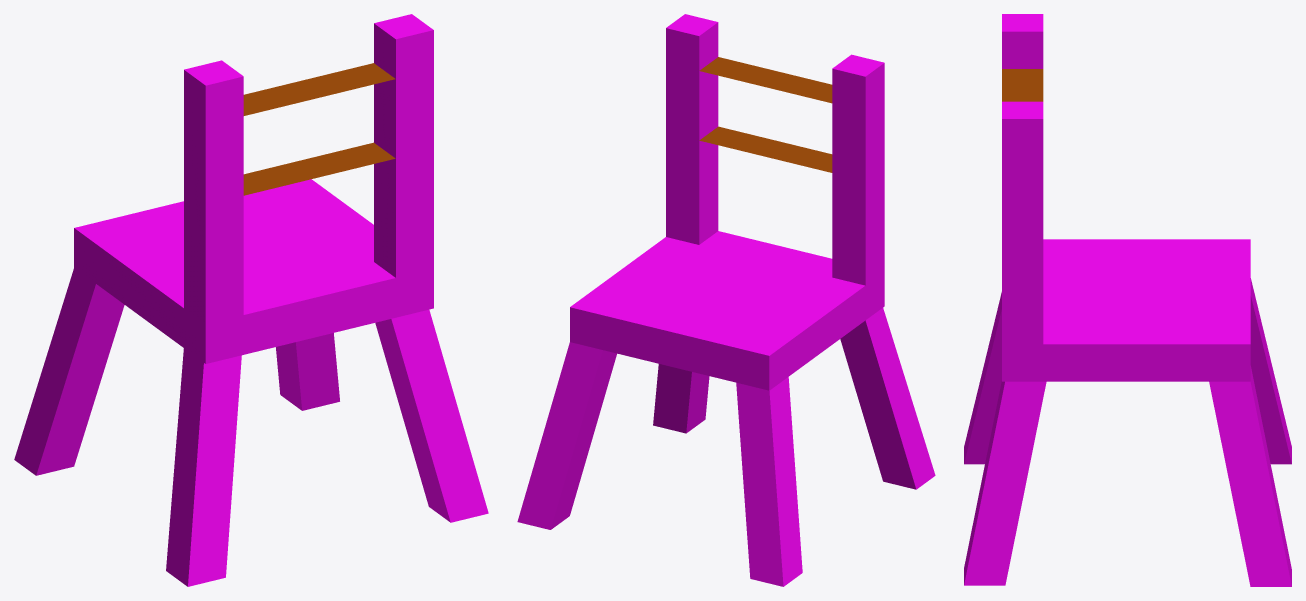
Rendered from chair.obj.
3 renders of one model, left to right at view 1: azimuth 30°, elevation 25°; view 2: azimuth 150°, elevation 25°; view 3: azimuth 270°, elevation 25°, orthographic. The views are drawn at different scales.
Visible parts, largest first — view 1: chair_back, chair_front; view 2: chair_back, chair_front; view 3: chair_back, chair_front.
Part boxes in pixels (x1,y1,x2,y2): chair_back: (14, 14, 488, 586); chair_front: (36, 179, 450, 522); chair_back: (517, 14, 935, 586); chair_front: (551, 231, 916, 529); chair_back: (964, 14, 1291, 586); chair_front: (964, 239, 1291, 464).
Bounding box in the file's own units: 0.96 × 1.44 × 0.95.
